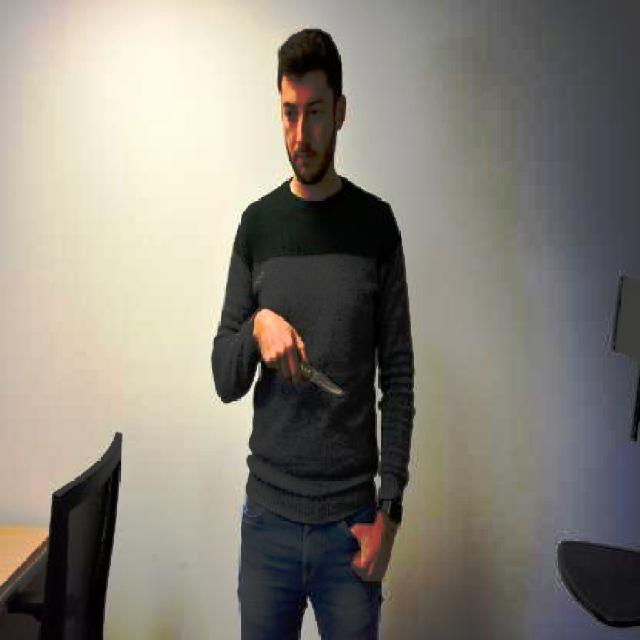Knife: (301, 355, 347, 400)
